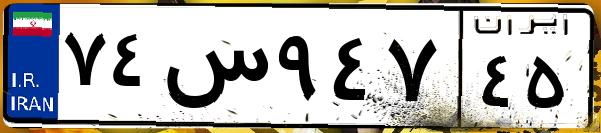4: (330, 28, 385, 110), (475, 38, 525, 113), (110, 28, 158, 98)
5: (525, 38, 570, 115)
7: (385, 28, 445, 110), (57, 26, 110, 100)
9: (270, 28, 330, 110)
س: (158, 20, 270, 120)
